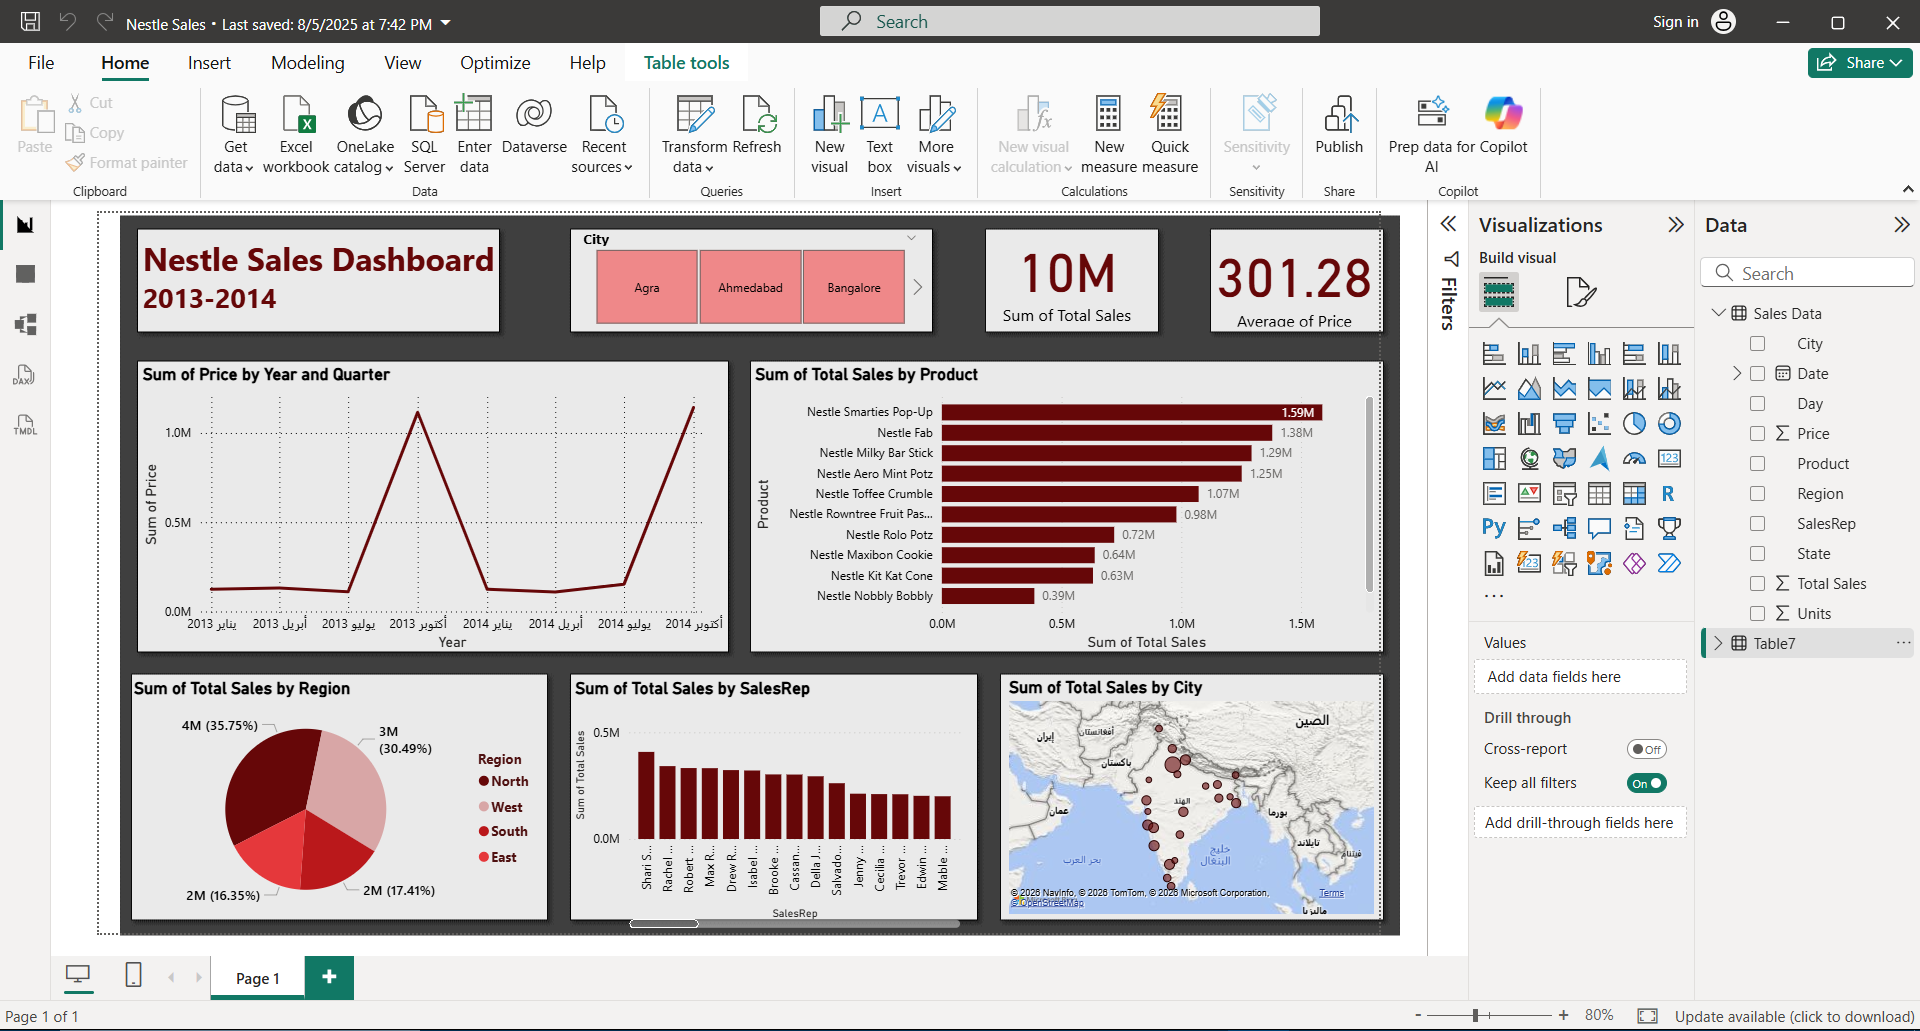

The page's visual inventory and layout, read from the dashboard file:
{"tool":"powerbi","page":{"name":"Page 1","canvas":[1280,720],"ordinal":0},"visuals":[{"type":"lineChart","fields":{"Y":["Sum(Sales Data.Price)"],"Category":["Sales Data.Date.Variation.Date Hierarchy.Year","Sales Data.Date.Variation.Date Hierarchy.Quarter"]},"box":[38.8,151.2,590,291.2],"z":0},{"type":"textbox","box":[38.8,18.8,402.5,88.8],"z":1000},{"type":"card","fields":{"Values":["Avg(Sales Data.Price)"]},"box":[1111.2,20,168.8,98.8],"z":2000},{"type":"pieChart","fields":{"Category":["Sales Data.Region"],"Y":["Sum(Sales Data.Total Sales)"]},"box":[30,465,420,243.8],"z":3000},{"type":"columnChart","fields":{"Y":["Sum(Sales Data.Total Sales)"],"Category":["Sales Data.SalesRep"]},"box":[471.2,465,395,255],"z":4000},{"type":"clusteredBarChart","fields":{"Category":["Sales Data.Product"],"Y":["Sum(Sales Data.Total Sales)"]},"box":[651.2,151.2,628.8,291.2],"z":5000},{"type":"map","fields":{"Category":["Sales Data.City"],"Size":["Sum(Sales Data.Total Sales)"]},"box":[905,463.8,375,242.5],"z":6000},{"type":"card","fields":{"Values":["Sum(Sales Data.Total Sales)"]},"box":[852.5,13.8,231.2,100],"z":7000},{"type":"slicer","fields":{"Values":["Sales Data.City"]},"box":[471.2,13.8,358.8,103.8],"z":8000}]}

Visuals, with their boxes on the page's 1280x720 design canvas (x1, y1, x2, y2). These are canvas units, not pixel positions in the 1920x1031 screenshot, which may show the page scaled, cropped or inside an application window:
lineChart - Sum(Sales Data.Price) x Sales Data.Date.Variation.Date Hierarchy.Year: 39 151 629 442
textbox: 39 19 441 108
card - Avg(Sales Data.Price): 1111 20 1280 119
pieChart - Sales Data.Region x Sum(Sales Data.Total Sales): 30 465 450 709
columnChart - Sum(Sales Data.Total Sales) x Sales Data.SalesRep: 471 465 866 720
clusteredBarChart - Sales Data.Product x Sum(Sales Data.Total Sales): 651 151 1280 442
map - Sales Data.City x Sum(Sales Data.Total Sales): 905 464 1280 706
card - Sum(Sales Data.Total Sales): 852 14 1084 114
slicer - Sales Data.City: 471 14 830 118
